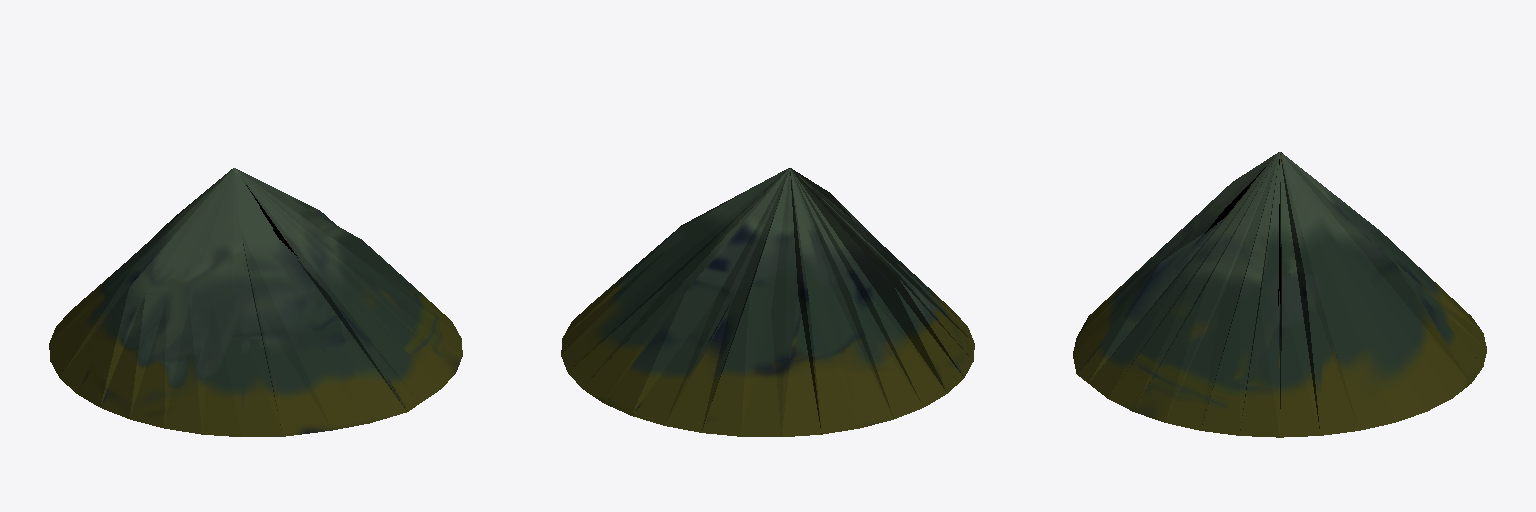
3 views of the same model, side by side, from view 1: azimuth 30°, elevation 25°; view 2: azimuth 150°, elevation 25°; view 3: azimuth 270°, elevation 25° (orthographic).
Parts seen in each view (by area): view 1: 円錐; view 2: 円錐; view 3: 円錐.
Part boxes in pixels (bbox=[...]): 円錐: bbox=[49, 168, 462, 436]; 円錐: bbox=[561, 168, 974, 436]; 円錐: bbox=[1073, 152, 1486, 437].
Bounding box in the file's own units: 4 × 2 × 4.
1 materials, 1 textured.